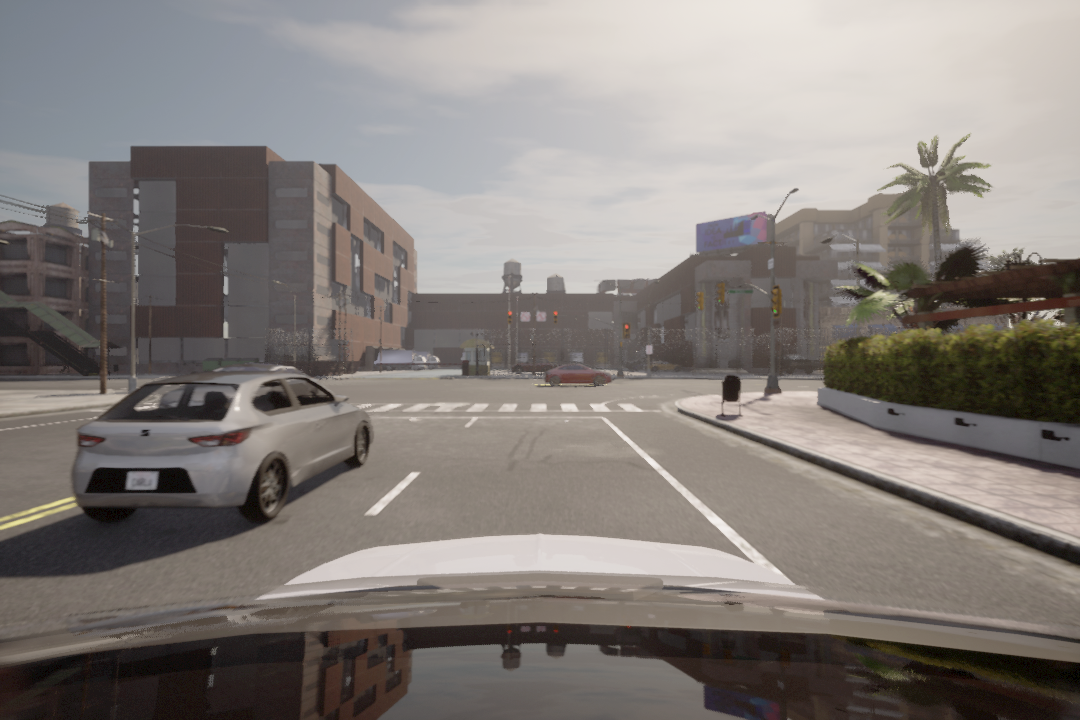TrafficLight: (624, 321, 632, 343), (505, 311, 515, 325), (551, 308, 558, 324)
walkside: (342, 394, 657, 421)
